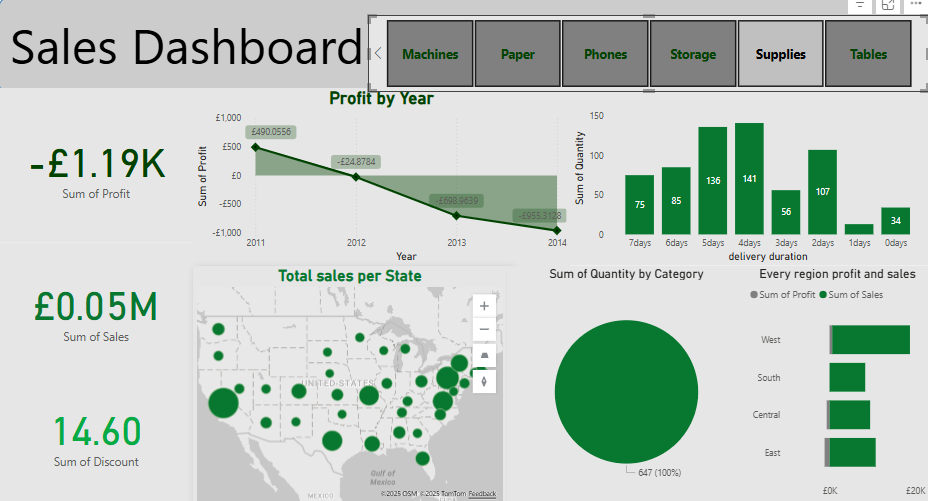

What the dashboard file says about the page in this screenshot:
{"tool":"powerbi","page":{"name":"Page 1","canvas":[1280,720],"ordinal":0},"visuals":[{"type":"shape","title":"    ","box":[0,0,1280,152.9],"z":0},{"type":"card","fields":{"Values":["Sum(Data.Profit)"]},"box":[0,147.3,267,213.3],"z":1000},{"type":"card","fields":{"Values":["Sum(Data.Discount)"]},"box":[0,527.1,267,192.7],"z":2000},{"type":"card","fields":{"Values":["Sum(Data.Sales)"]},"box":[0,360.6,267,181.7],"z":3000},{"type":"areaChart","title":"Profit by Year","fields":{"Category":["Data.Year"],"Y":["Sum(Data.Profit)"]},"box":[267,147.3,518.9,245],"z":4000},{"type":"azureMap","title":"Total sales per State","fields":{"Size":["Sum(Data.Sales)"],"Category":["Data.State"]},"box":[267,392.3,432.2,327.6],"z":5000},{"type":"pieChart","fields":{"Category":["Data.Category"],"Y":["Sum(Data.Quantity)"]},"box":[699.2,392.3,328.9,327.6],"z":6000},{"type":"slicer","fields":{"Values":["Data.Sub-Category"]},"box":[507.9,46.8,772.1,106],"z":7000},{"type":"clusteredColumnChart","fields":{"Category":["Data.delivery duration"],"Y":["Sum(Data.Quantity)"]},"box":[786,153,494,239],"z":8000},{"type":"barChart","title":"Every region profit and sales ","fields":{"Category":["Data.Region"],"Y":["Sum(Data.Profit)","Sum(Data.Sales)"]},"box":[1028,392,252,328],"z":9000}]}

Visuals, with their boxes on the page's 1280x720 design canvas (x1, y1, x2, y2). These are canvas units, not pixel positions in the 928x501 screenshot, which may show the page scaled, cropped or inside an application window:
"    " shape: [left=0, top=0, right=1280, bottom=153]
card - Sum(Data.Profit): [left=0, top=147, right=267, bottom=361]
card - Sum(Data.Discount): [left=0, top=527, right=267, bottom=720]
card - Sum(Data.Sales): [left=0, top=361, right=267, bottom=542]
"Profit by Year" areaChart: [left=267, top=147, right=786, bottom=392]
"Total sales per State" azureMap: [left=267, top=392, right=699, bottom=720]
pieChart - Data.Category x Sum(Data.Quantity): [left=699, top=392, right=1028, bottom=720]
slicer - Data.Sub-Category: [left=508, top=47, right=1280, bottom=153]
clusteredColumnChart - Data.delivery duration x Sum(Data.Quantity): [left=786, top=153, right=1280, bottom=392]
"Every region profit and sales " barChart: [left=1028, top=392, right=1280, bottom=720]
